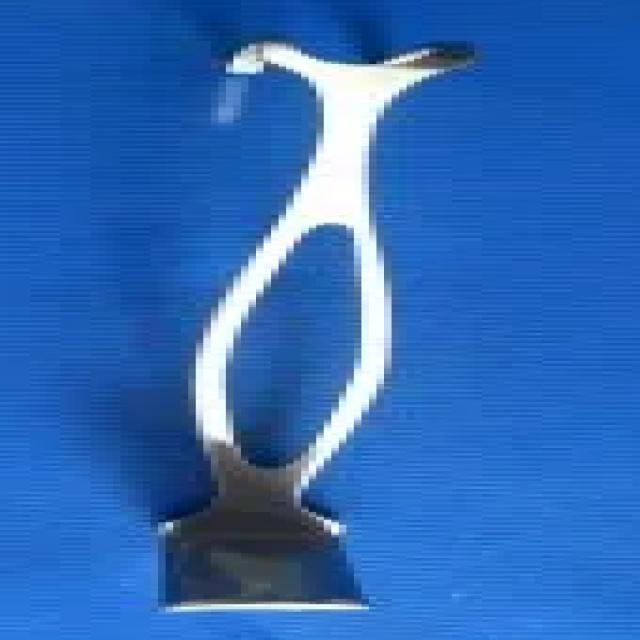Czerny Retractor: (142, 31, 496, 608)
